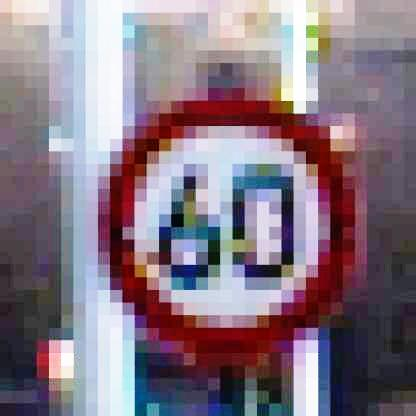Speed Limit -60-: (87, 92, 361, 362)
